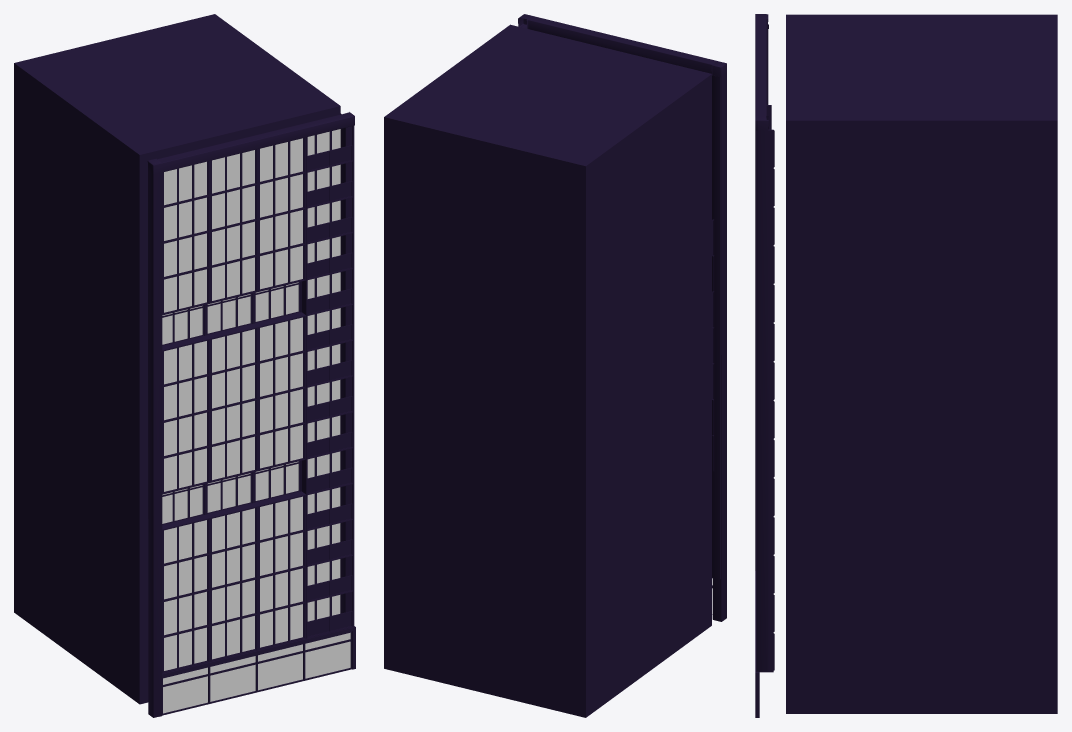
Rendered from building_06.gltf.
3 views of the same model, side by side, from view 1: azimuth 30°, elevation 25°; view 2: azimuth 150°, elevation 25°; view 3: azimuth 270°, elevation 25° (orthographic). The views are drawn at different scales.
Visible parts, largest first — view 1: building_06; view 2: building_06; view 3: building_06.
Part boxes in pixels (x1,y1,x2,y2): building_06: (14,14,355,717); building_06: (384,14,726,717); building_06: (755,14,1057,717).
Bounding box in the file's own units: 1.86 × 4.85 × 2.23.
